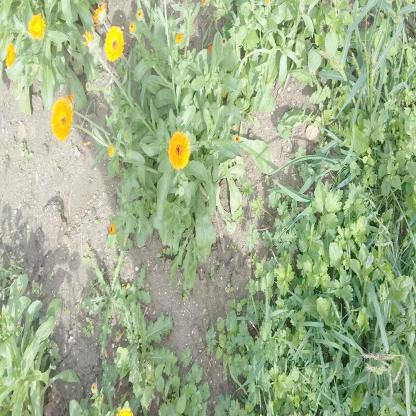marigold: (52, 98, 72, 141), (168, 133, 189, 168), (106, 24, 122, 62)
